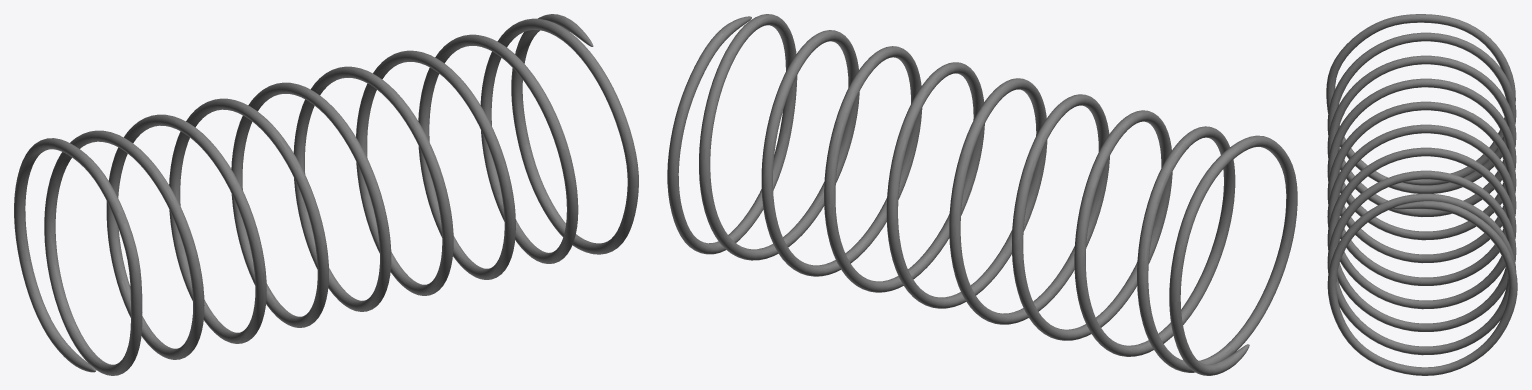
File: resorte.obj
3 views of the same model, side by side, from view 1: azimuth 30°, elevation 25°; view 2: azimuth 150°, elevation 25°; view 3: azimuth 270°, elevation 25° (orthographic). The views are drawn at different scales.
Parts seen in each view (by area): view 1: Circle_CUCircle; view 2: Circle_CUCircle; view 3: Circle_CUCircle.
Part boxes in pixels (bbox=[...]): Circle_CUCircle: bbox=[14, 14, 638, 375]; Circle_CUCircle: bbox=[667, 14, 1297, 375]; Circle_CUCircle: bbox=[1326, 14, 1517, 375].
Size of the model in its own units: 1.64 by 0.6941 by 0.6856.
